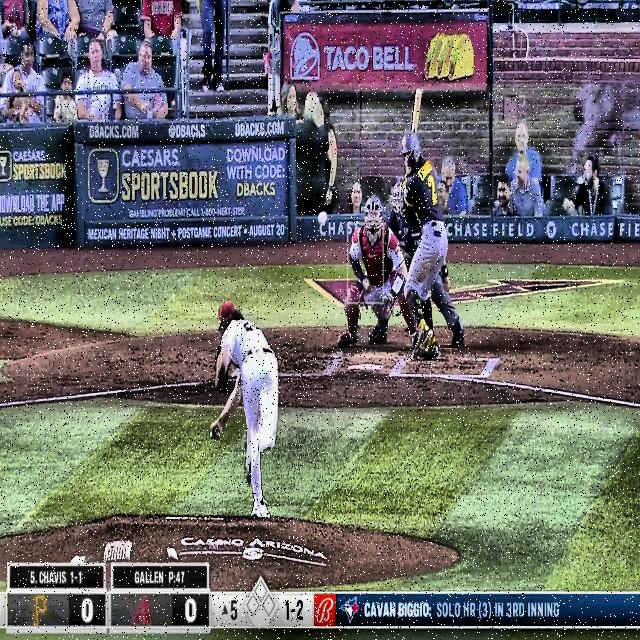baseball: (318, 211, 327, 225)
